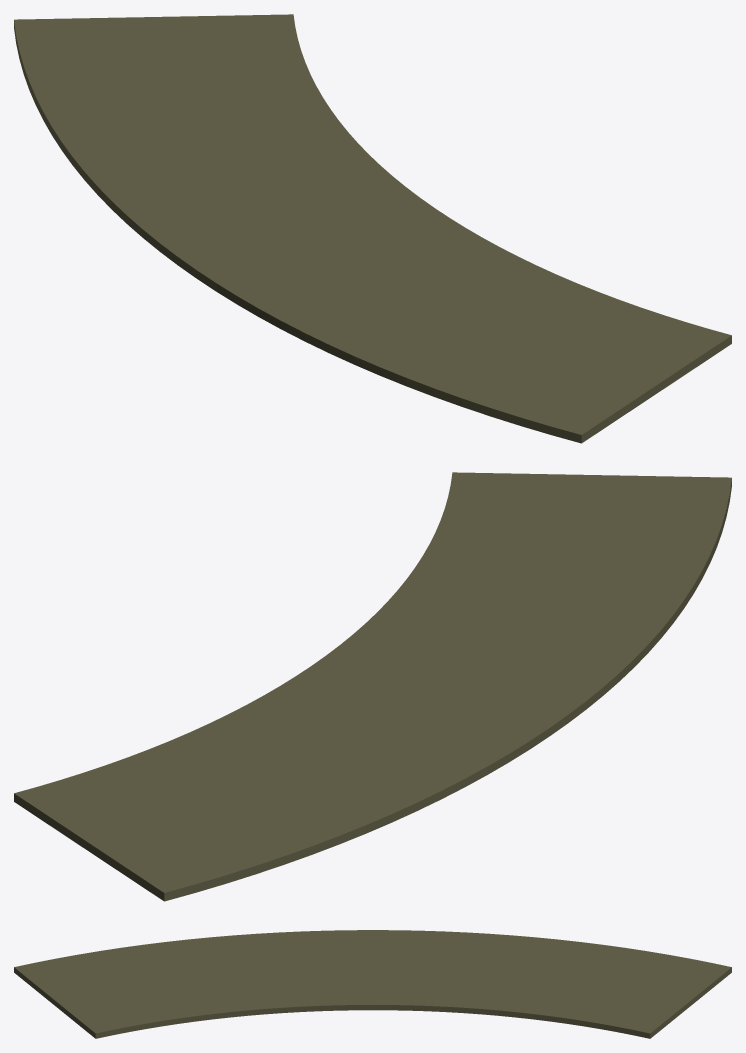
The model's file is Road_03_Bend_02.fbx.
3 views of the same model, one above another, from view 1: azimuth 30°, elevation 25°; view 2: azimuth 150°, elevation 25°; view 3: azimuth 270°, elevation 25° (orthographic). The views are drawn at different scales.
Visible parts, largest first — view 1: Road_03_Bend_02; view 2: Road_03_Bend_02; view 3: Road_03_Bend_02.
Boxes of the visible parts, left/top/right/bottom form: Road_03_Bend_02: left=14, top=14, right=731, bottom=443; Road_03_Bend_02: left=14, top=472, right=731, bottom=901; Road_03_Bend_02: left=14, top=930, right=731, bottom=1038.
Size of the model in its own units: 227 by 5.51 by 666.
